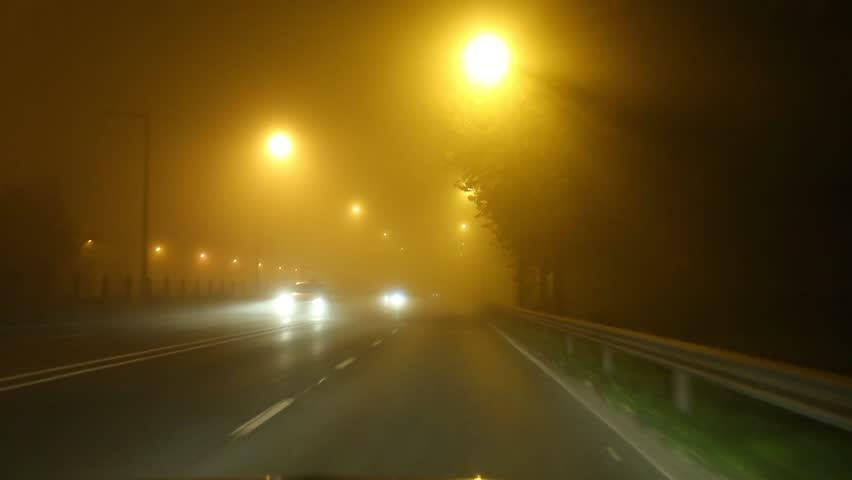car: (280, 281, 335, 321)
